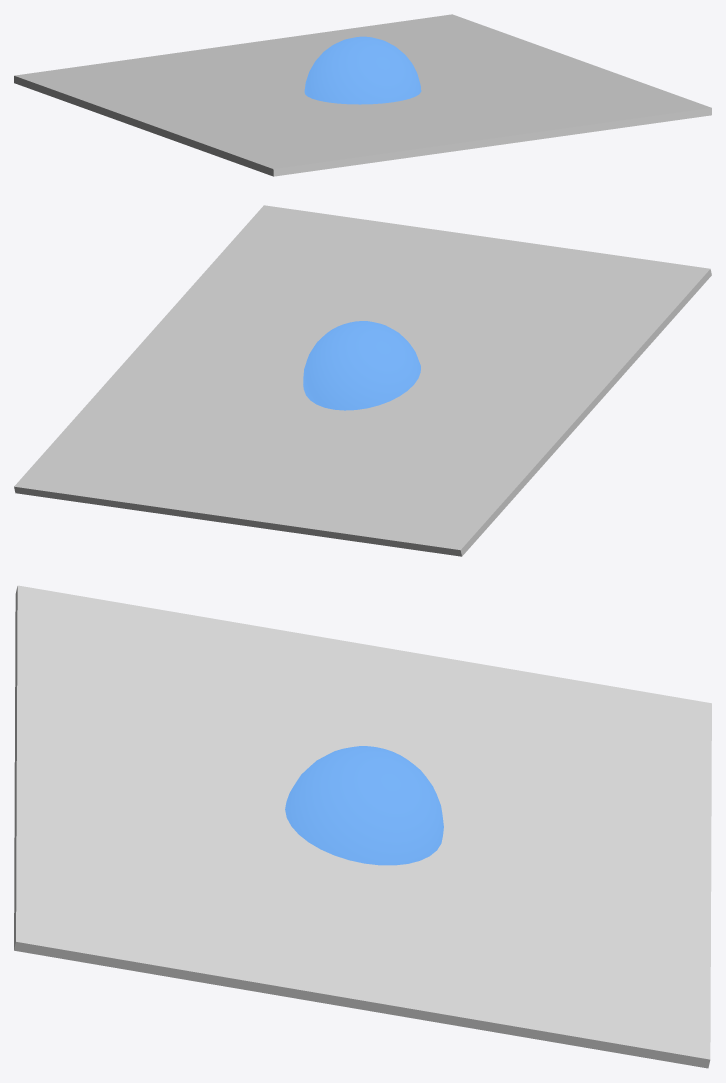
The model's file is blackHole.glb.
The picture shows the model from 3 angles, top to bottom: view 1: azimuth 30°, elevation 25°; view 2: azimuth 150°, elevation 25°; view 3: azimuth 270°, elevation 25°; orthographic projection. The views are drawn at different scales.
Parts seen in each view (by area): view 1: Cube, Sphere; view 2: Cube, Sphere; view 3: Cube, Sphere.
Boxes of the visible parts, left/top/right/bottom form: Cube: left=14, top=14, right=711, bottom=176; Sphere: left=304, top=36, right=421, bottom=104; Cube: left=14, top=205, right=711, bottom=556; Sphere: left=303, top=321, right=420, bottom=410; Cube: left=14, top=585, right=711, bottom=1068; Sphere: left=285, top=746, right=443, bottom=865.
Bounding box in the file's own units: 10.58 × 3.2 × 10.42.
